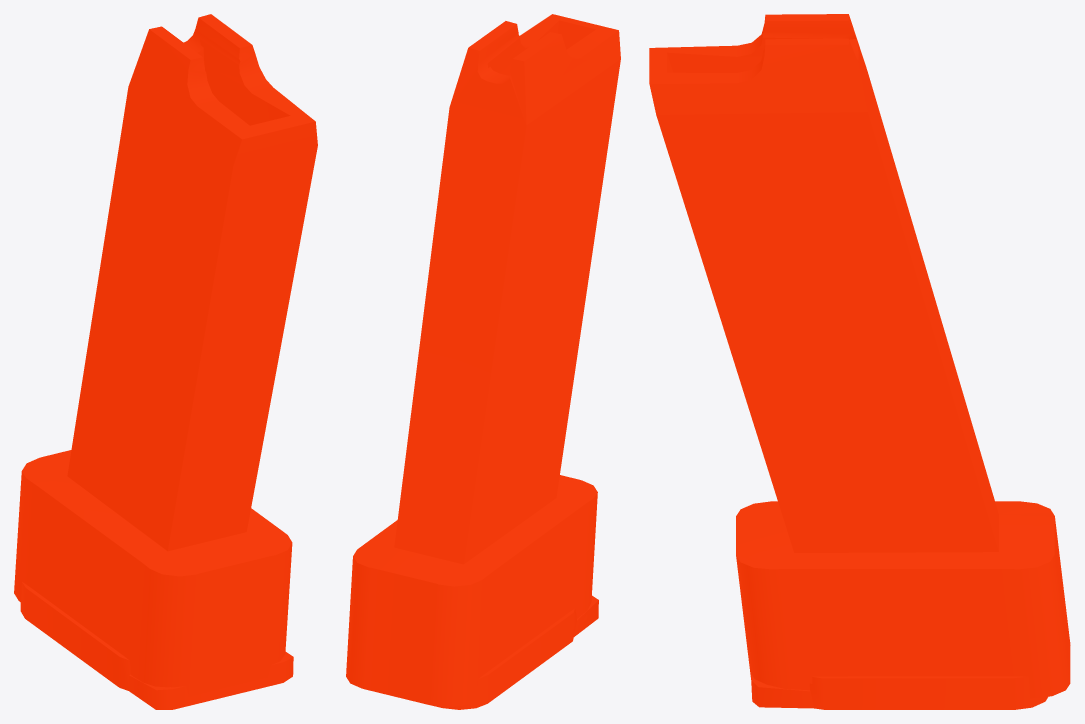
File: VP9Mag.fbx
3 renders of one model, left to right at view 1: azimuth 30°, elevation 25°; view 2: azimuth 150°, elevation 25°; view 3: azimuth 270°, elevation 25°, orthographic. The views are drawn at different scales.
Visible parts, largest first — view 1: vp9 mag.001; view 2: vp9 mag.001; view 3: vp9 mag.001.
Part boxes in pixels (left/top/right/bottom): vp9 mag.001: left=14, top=14, right=317, bottom=709; vp9 mag.001: left=346, top=14, right=620, bottom=709; vp9 mag.001: left=649, top=14, right=1070, bottom=709.
Size of the model in its own units: 2.18 by 5.41 by 9.19.
